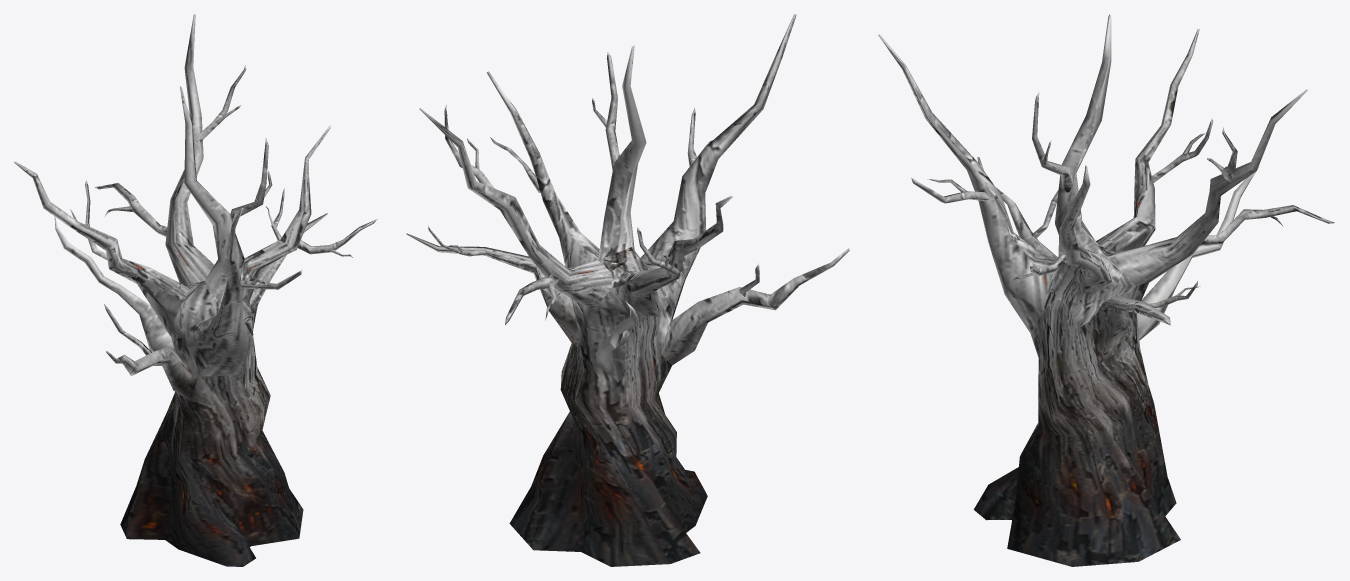
The model's file is Vo_N_CharcoalTree01.FBX.
3 views of the same model, side by side, from view 1: azimuth 30°, elevation 25°; view 2: azimuth 150°, elevation 25°; view 3: azimuth 270°, elevation 25° (orthographic). The views are drawn at different scales.
Parts seen in each view (by area): view 1: Vo_N_CharcoalTree01; view 2: Vo_N_CharcoalTree01; view 3: Vo_N_CharcoalTree01.
Boxes of the visible parts, x1=… form: Vo_N_CharcoalTree01: x1=14, y1=14, x2=377, y2=566; Vo_N_CharcoalTree01: x1=406, y1=14, x2=849, y2=566; Vo_N_CharcoalTree01: x1=878, y1=14, x2=1334, y2=566.
Size of the model in its own units: 1025 by 1398 by 1173.
